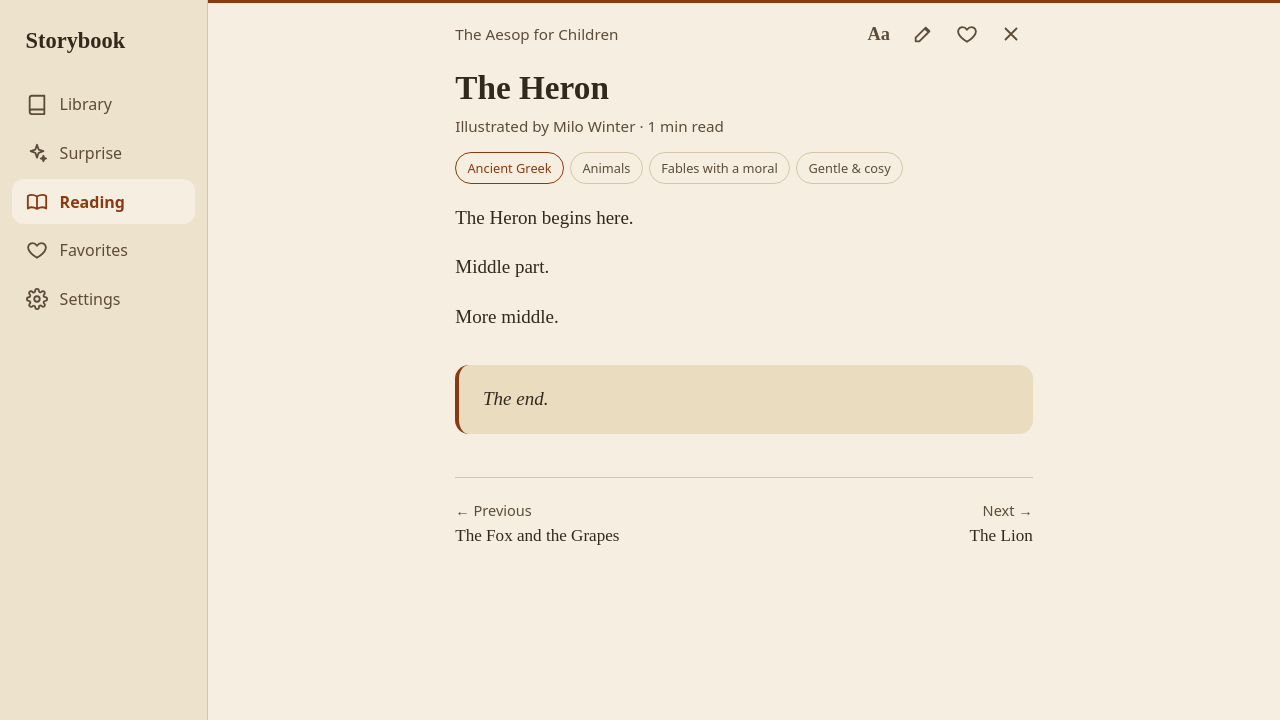
Test: ReaderPage › explains when a story is not available offline
Expected: the text "The Heron begins here." is shown, x1=455 y1=207 x2=634 y2=228
Step 1. Click the link "Next → The Lion" → (1001, 523), box x1=970 y1=500 x2=1033 y2=545
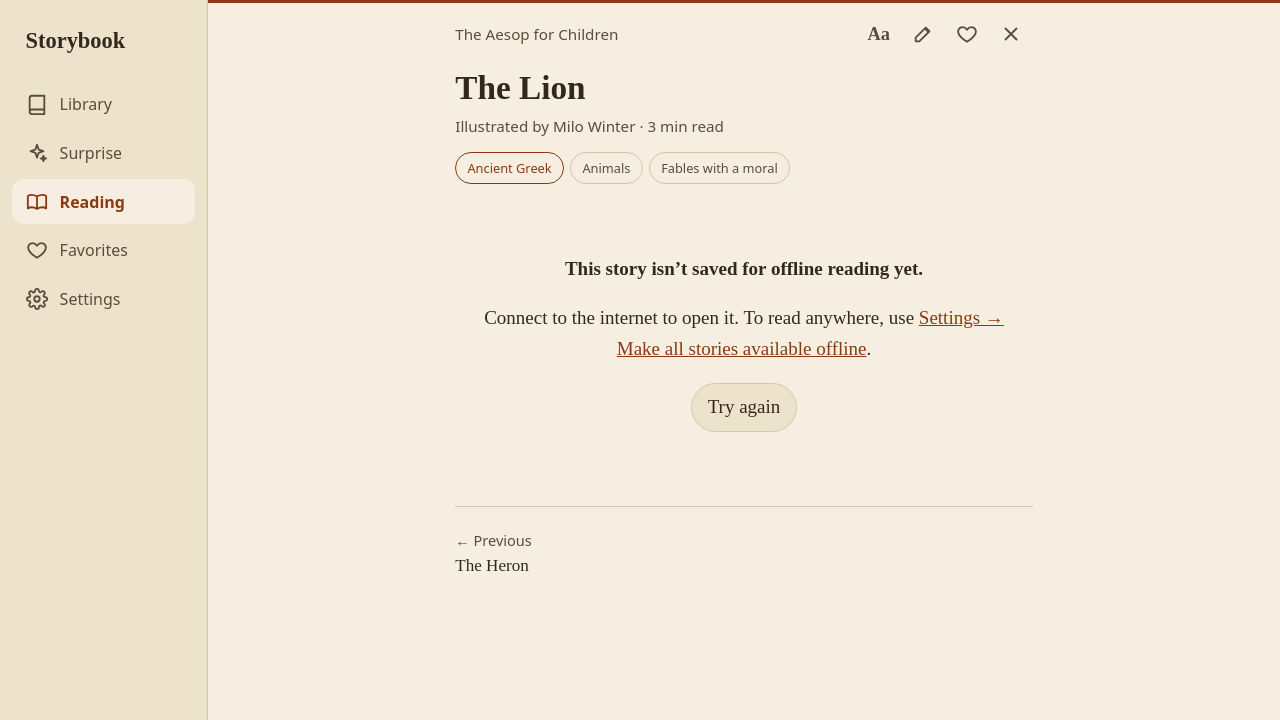
Expected: the text "This story isn’t saved for offline reading yet." is shown, x1=565 y1=258 x2=923 y2=279
